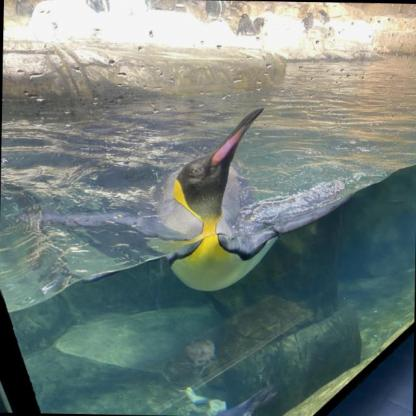penguin: (136, 104, 281, 292)
